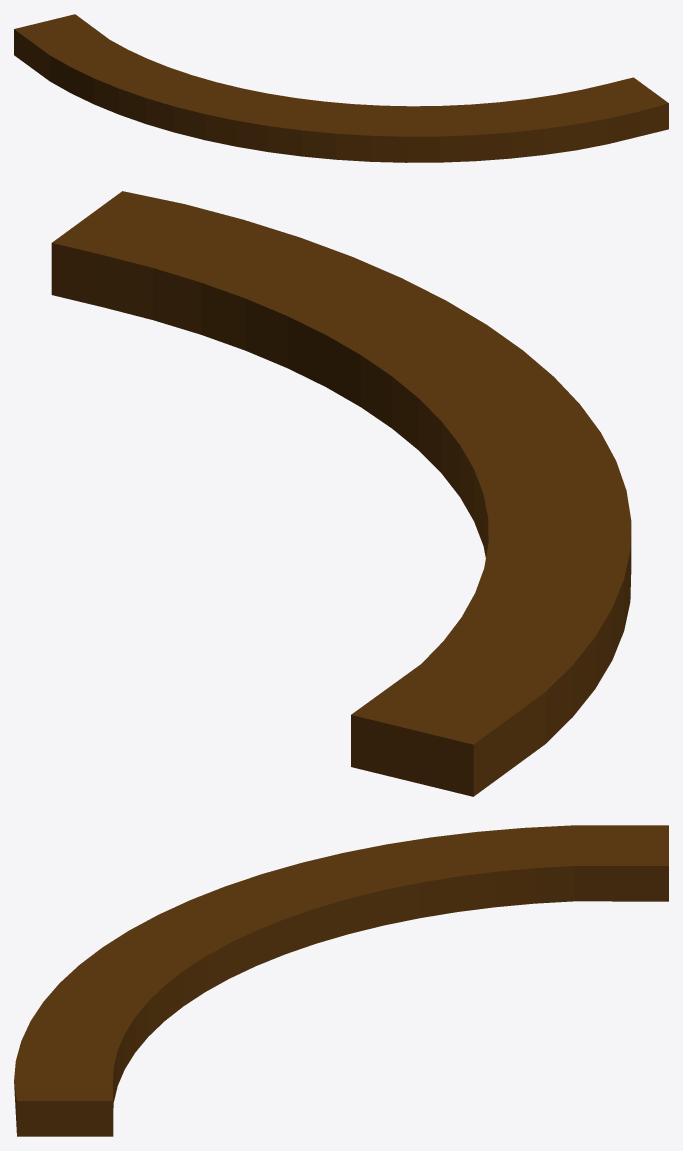
File: wallrounded.fbx
3 renders of one model, top to bottom at view 1: azimuth 30°, elevation 25°; view 2: azimuth 150°, elevation 25°; view 3: azimuth 270°, elevation 25°, orthographic. The views are drawn at different scales.
Parts seen in each view (by area): view 1: Wall.001; view 2: Wall.001; view 3: Wall.001.
Part boxes in pixels (bbox=[...]): Wall.001: bbox=[14, 14, 668, 162]; Wall.001: bbox=[51, 191, 631, 796]; Wall.001: bbox=[14, 825, 668, 1136].
Bounding box in the file's own units: 200 × 12.01 × 201.
